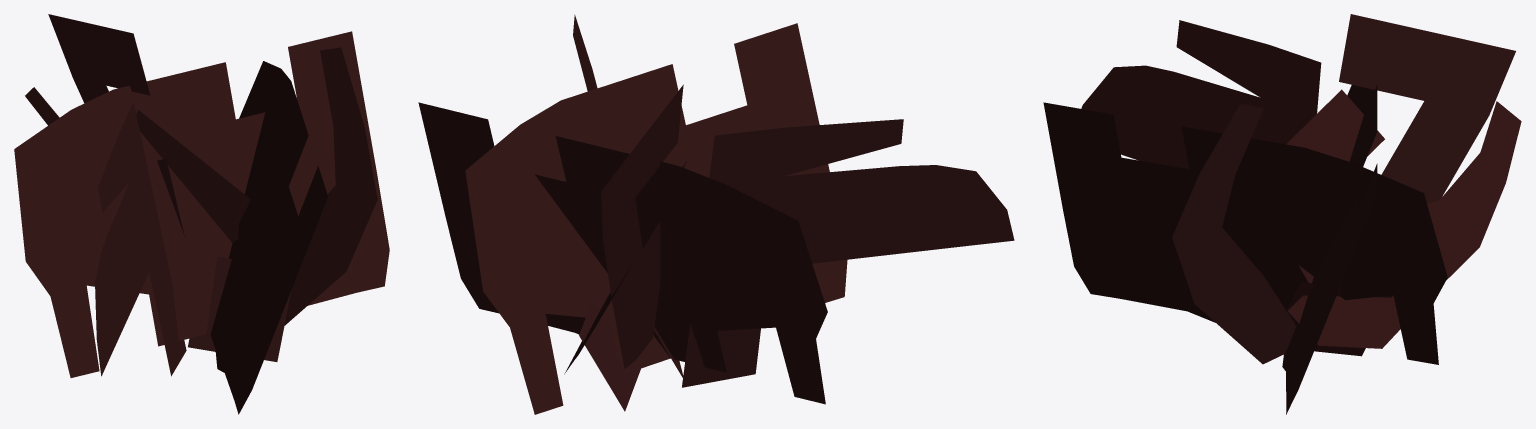
Rendered from SM_ocean_scatterPlant_02_A.fbx.
The picture shows the model from 3 angles, left to right: view 1: azimuth 30°, elevation 25°; view 2: azimuth 150°, elevation 25°; view 3: azimuth 270°, elevation 25°; orthographic projection. The views are drawn at different scales.
Parts seen in each view (by area): view 1: SM_ocean_scatterPlant_02_A_LOD0; view 2: SM_ocean_scatterPlant_02_A_LOD0; view 3: SM_ocean_scatterPlant_02_A_LOD0.
Part boxes in pixels (x1,y1,x2,y2): SM_ocean_scatterPlant_02_A_LOD0: [14, 14, 389, 414]; SM_ocean_scatterPlant_02_A_LOD0: [418, 14, 1014, 414]; SM_ocean_scatterPlant_02_A_LOD0: [1043, 14, 1521, 414].
Size of what is drawn, in the model's own units: 52.39 by 52.86 by 38.78.
